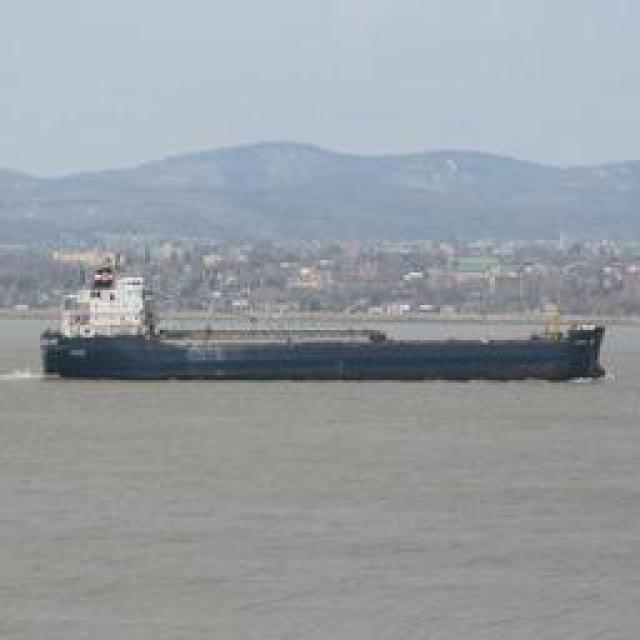Ship: (39, 286, 605, 384)
